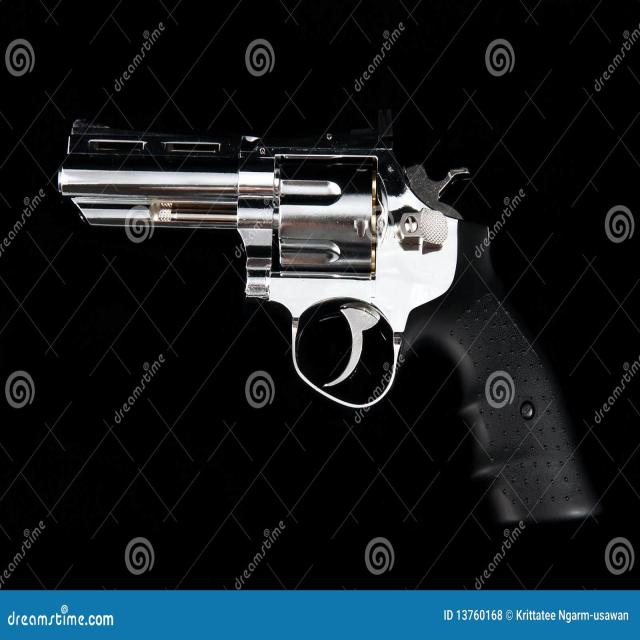handgun: (59, 120, 596, 525)
